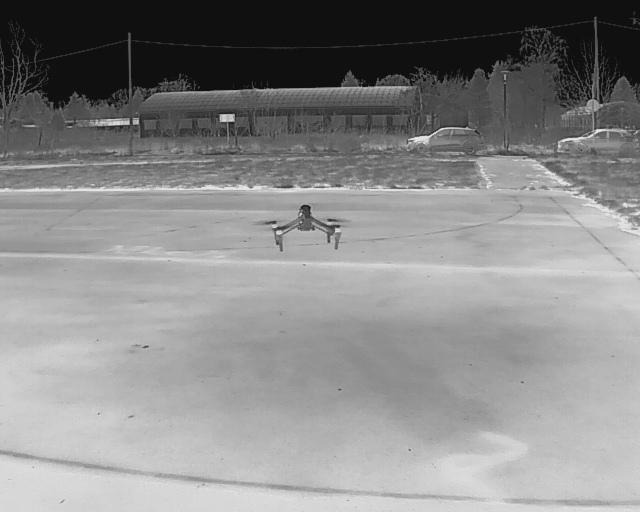drone: (251, 197, 357, 255)
